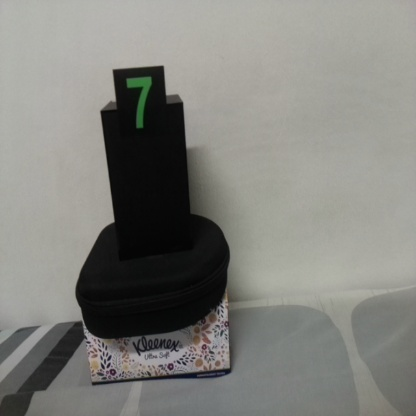id_7: (112, 70, 167, 147)
